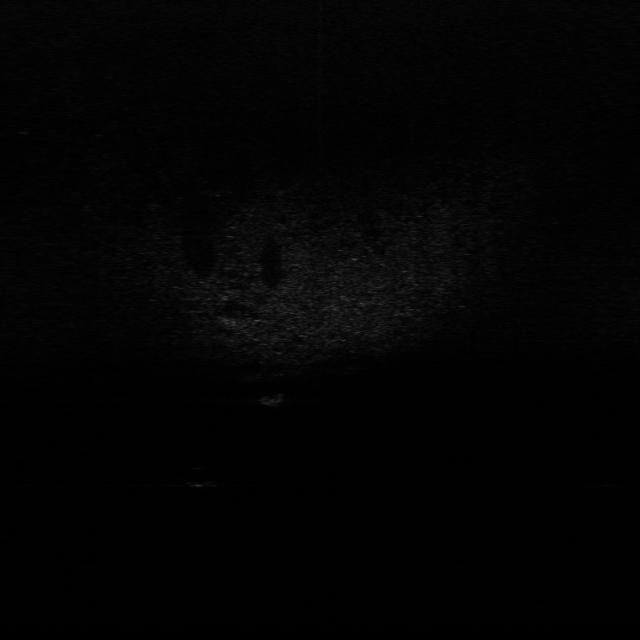ball: (182, 464, 217, 489)
cube: (254, 387, 290, 411)
